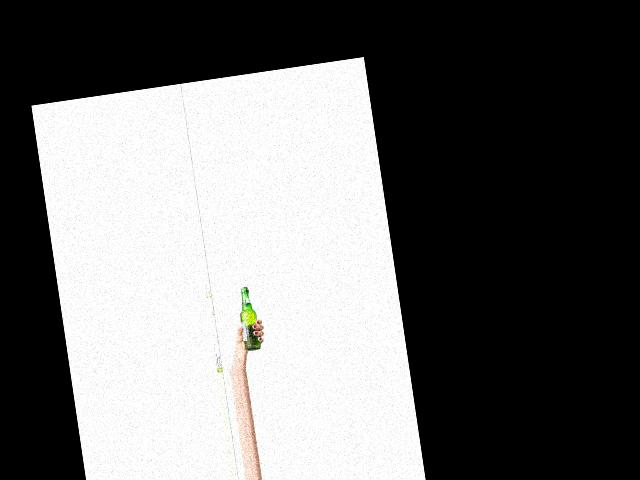beer: (234, 285, 260, 351)
